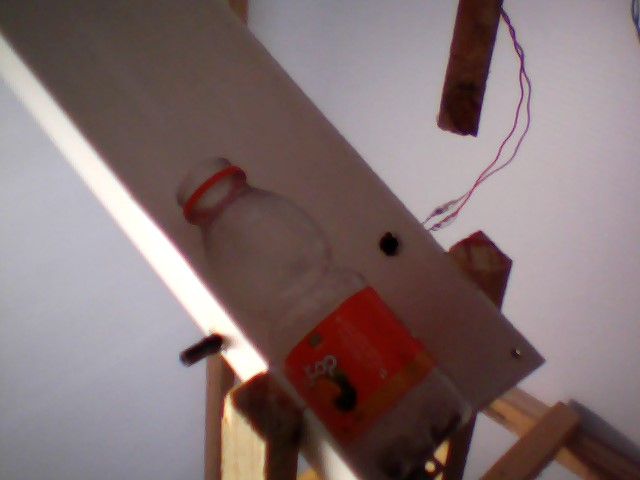plastico: (161, 154, 482, 480)
